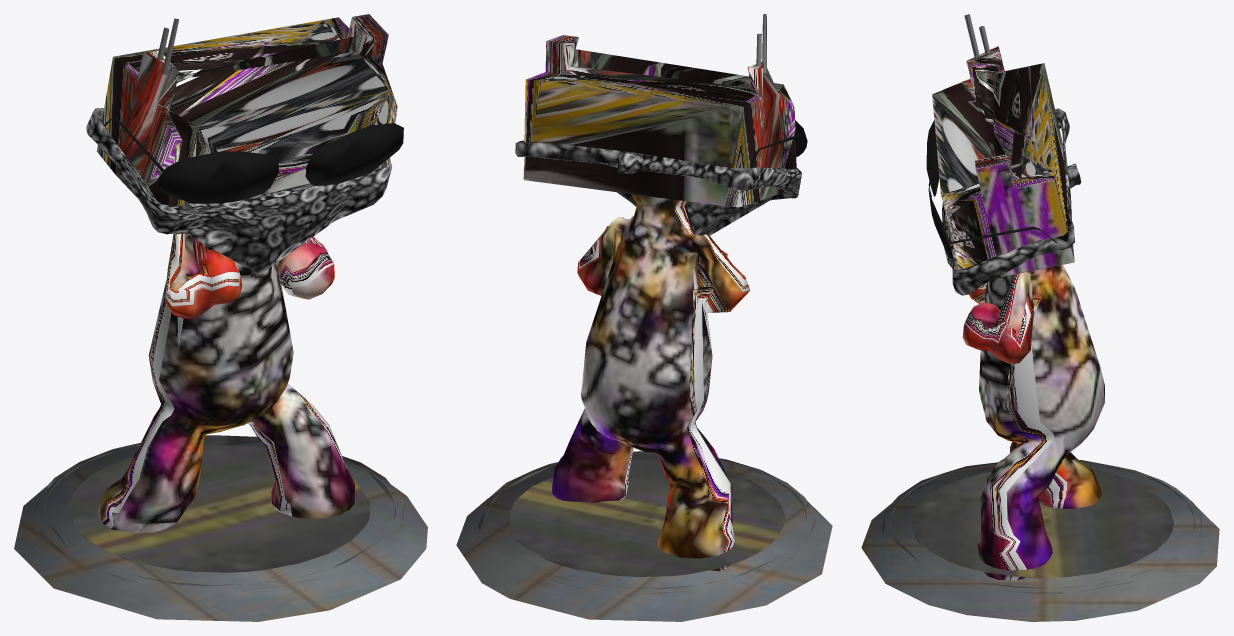
3 views of the same model, side by side, from view 1: azimuth 30°, elevation 25°; view 2: azimuth 150°, elevation 25°; view 3: azimuth 270°, elevation 25° (orthographic). The views are drawn at different scales.
Size of the model in its own units: 1.44 by 2.18 by 1.43.
Materials: 7 (5 with a texture image).
